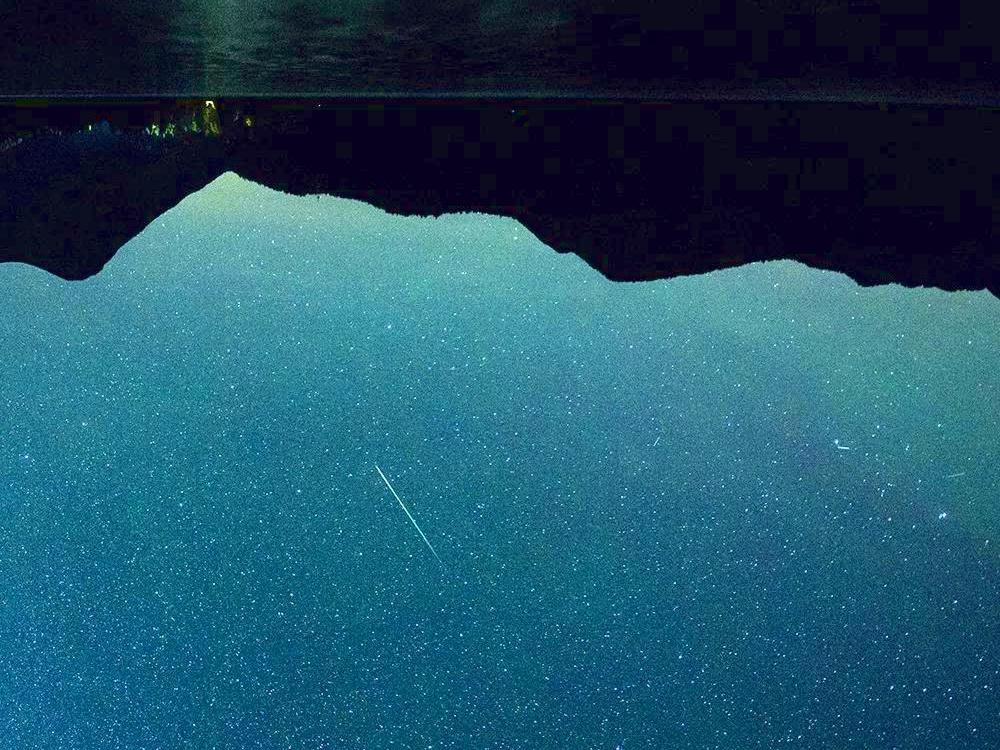meteorite: (357, 437, 447, 561)
